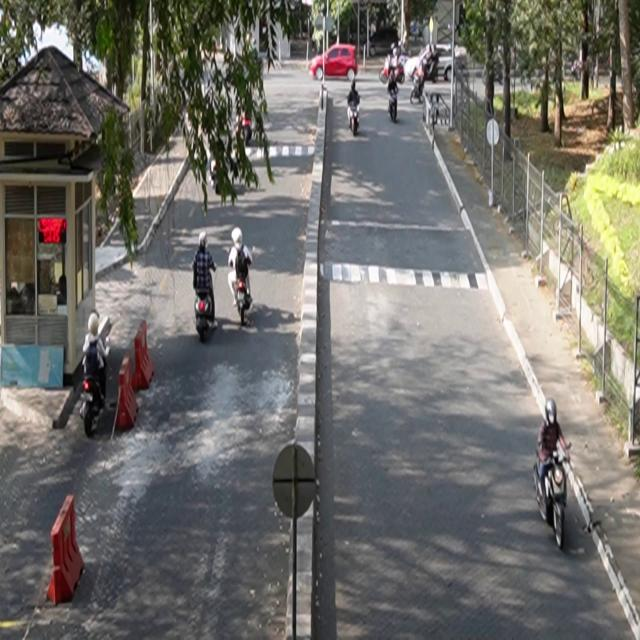car: (309, 44, 359, 83)
